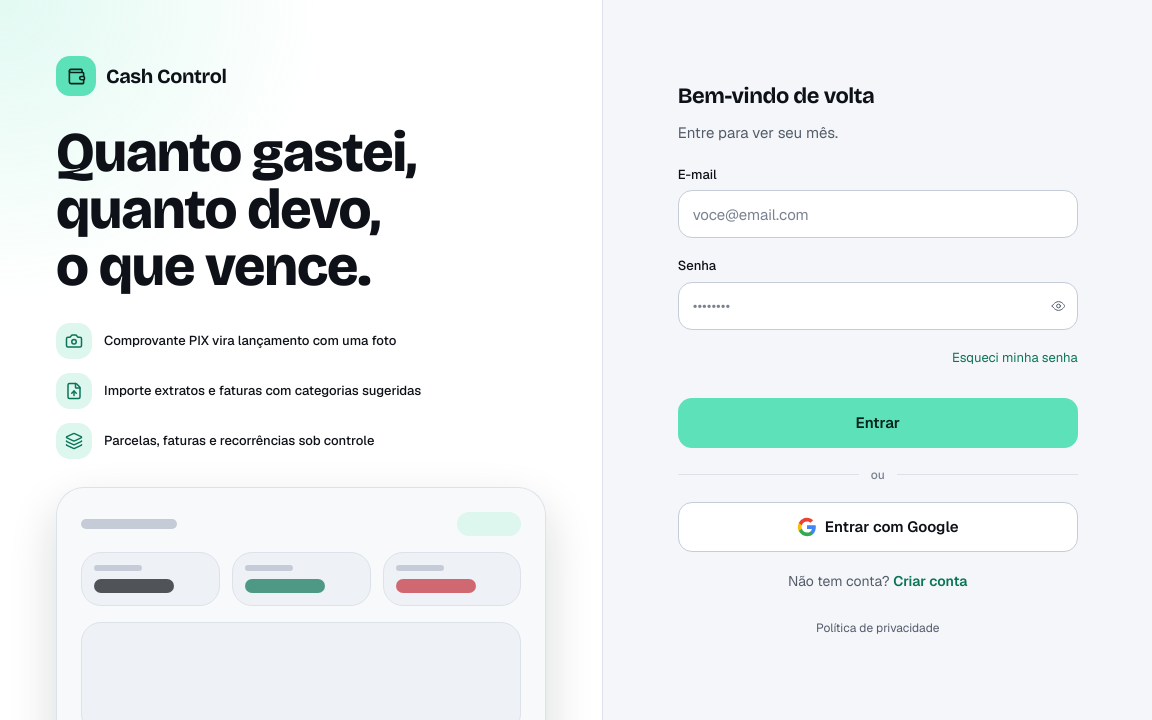
Test: LoginPage › shows validation error for invalid email format
Type "notanemail" into the field labelled "E-mail" at (878, 214), box x1=678 y1=190 x2=1078 y2=238
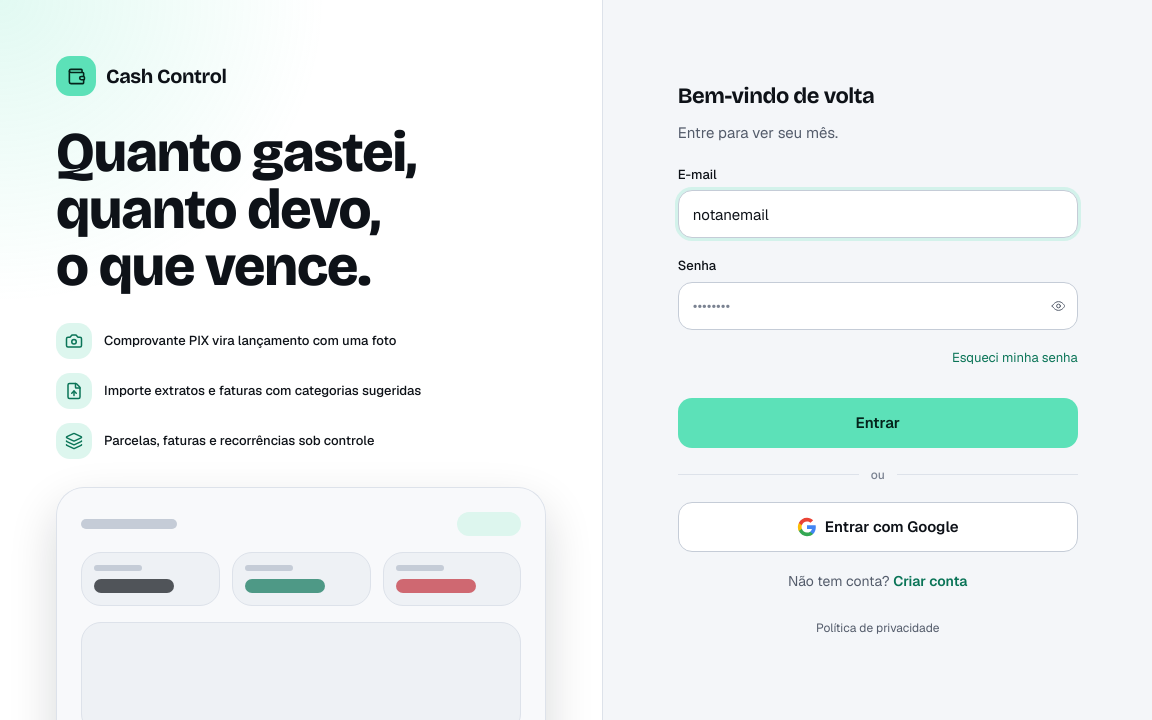
Type "password123" into the password field labelled "Senha" at (878, 306), box x1=678 y1=282 x2=1078 y2=330
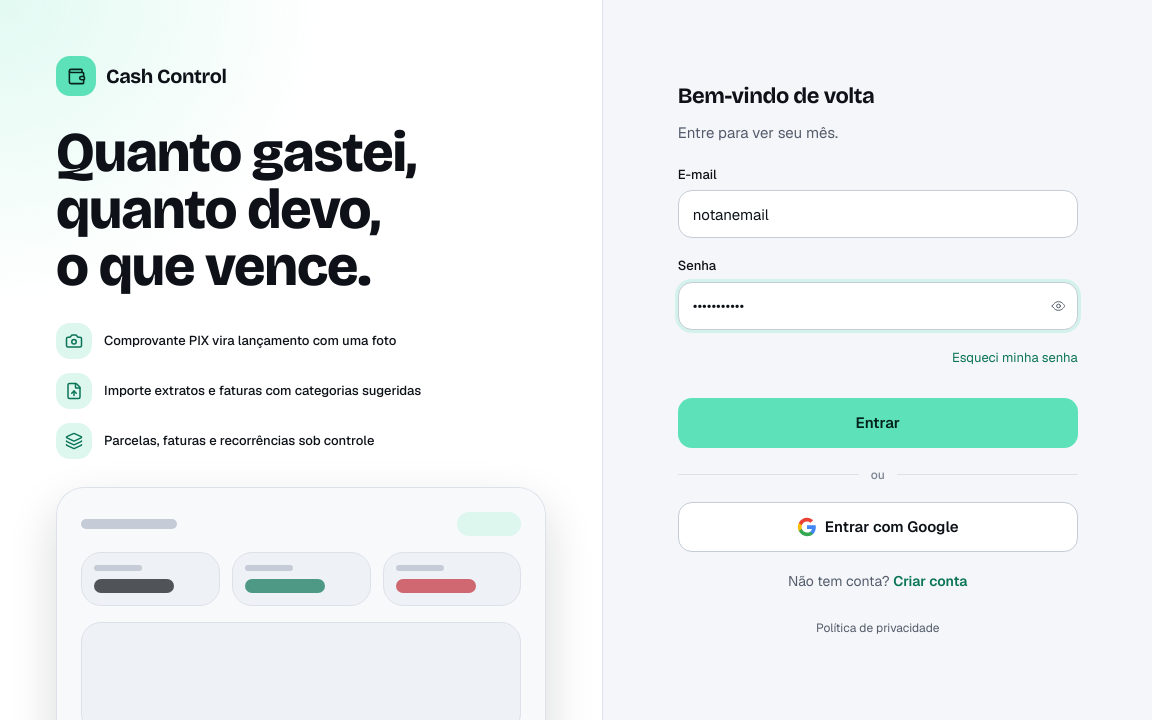
Click the button "Entrar" at (878, 423), box x1=678 y1=398 x2=1078 y2=448
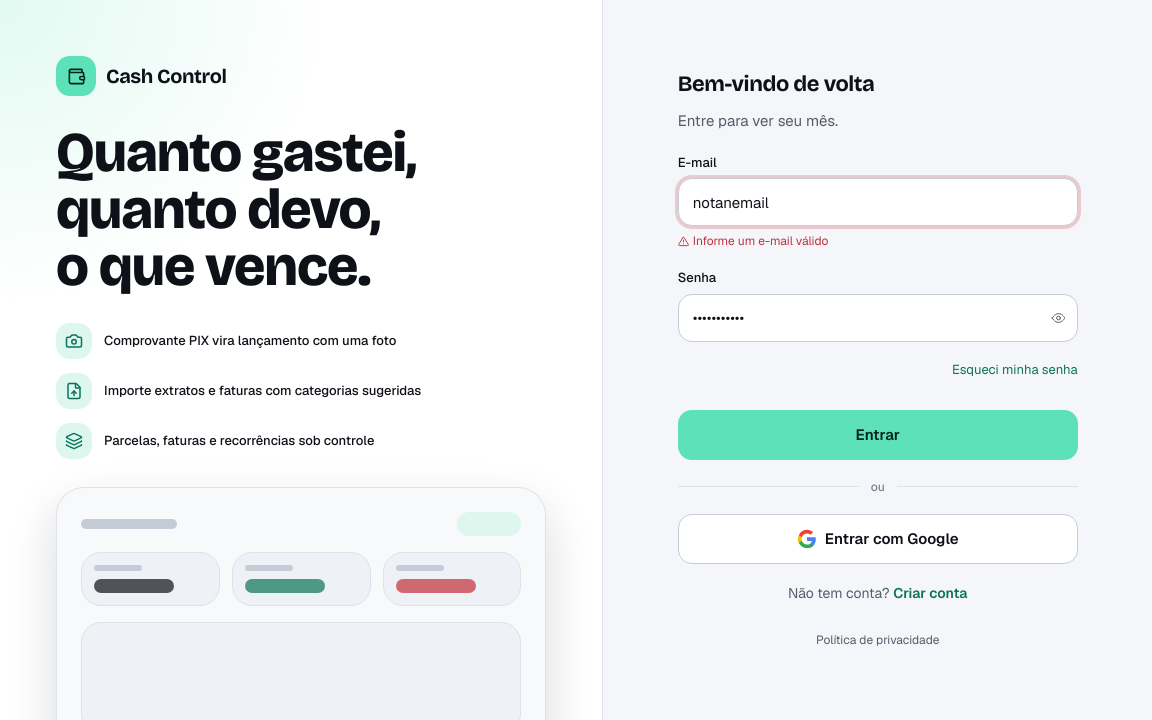
Expected: the text "Informe um e-mail válido" is shown, x1=678 y1=234 x2=828 y2=250
